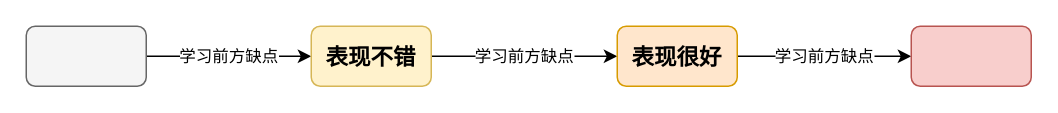
Image size: 1058x113. Some labels were removed from this diagram. Here are the shapes that lost their labels. From the top down, the box of each, then its label:
(25, 25, 146, 86): 表现一般
(910, 25, 1031, 86): 表现优秀
